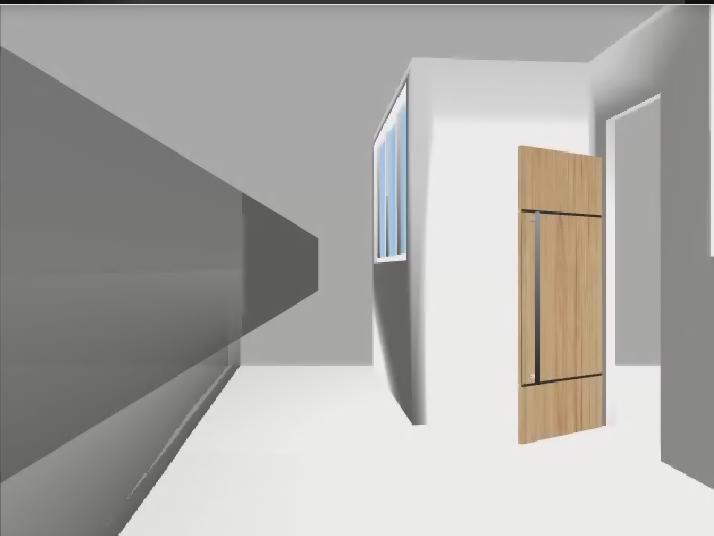door: (518, 147, 603, 445)
